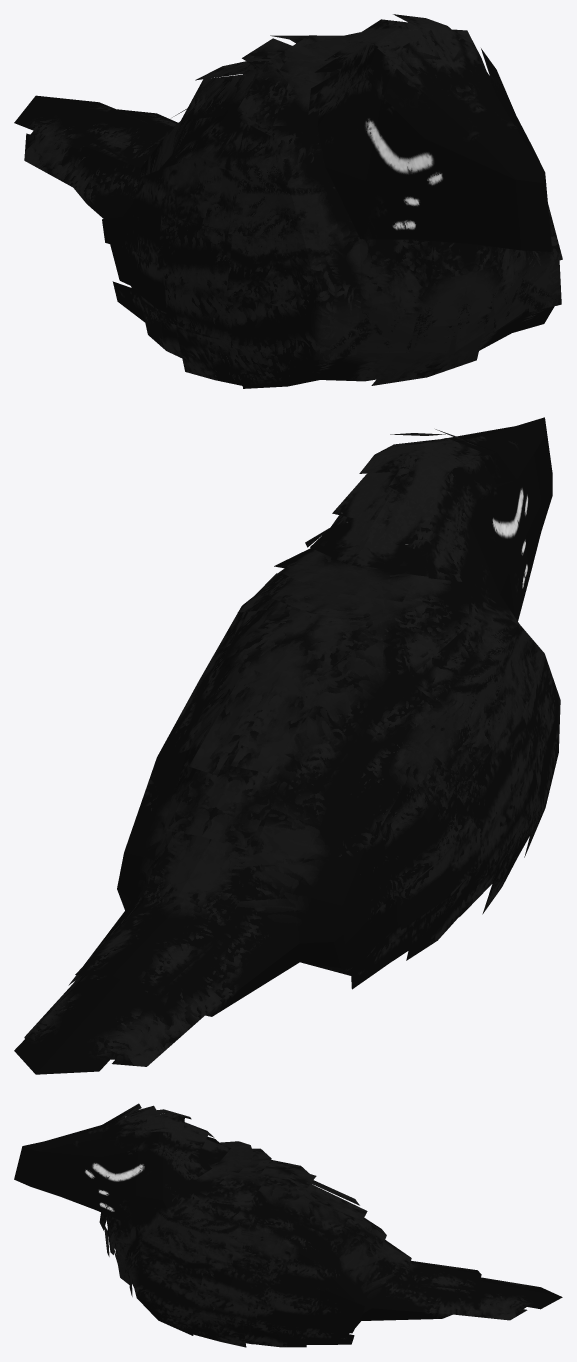
The model's file is cutecrow.glb.
3 renders of one model, top to bottom at view 1: azimuth 30°, elevation 25°; view 2: azimuth 150°, elevation 25°; view 3: azimuth 270°, elevation 25°, orthographic. The views are drawn at different scales.
Visible parts, largest first — view 1: feathers, crow; view 2: feathers, crow; view 3: feathers, crow.
Part boxes in pixels (x1,y1,x2,y2): feathers: (14,14,562,388); crow: (30,54,554,386); feathers: (14,429,560,1074); crow: (36,417,552,1059); feathers: (99,1103,562,1347); crow: (14,1114,526,1344).
Size of the model in its own units: 3.63 by 4.32 by 10.02.
Materials: 1 (1 with a texture image).
